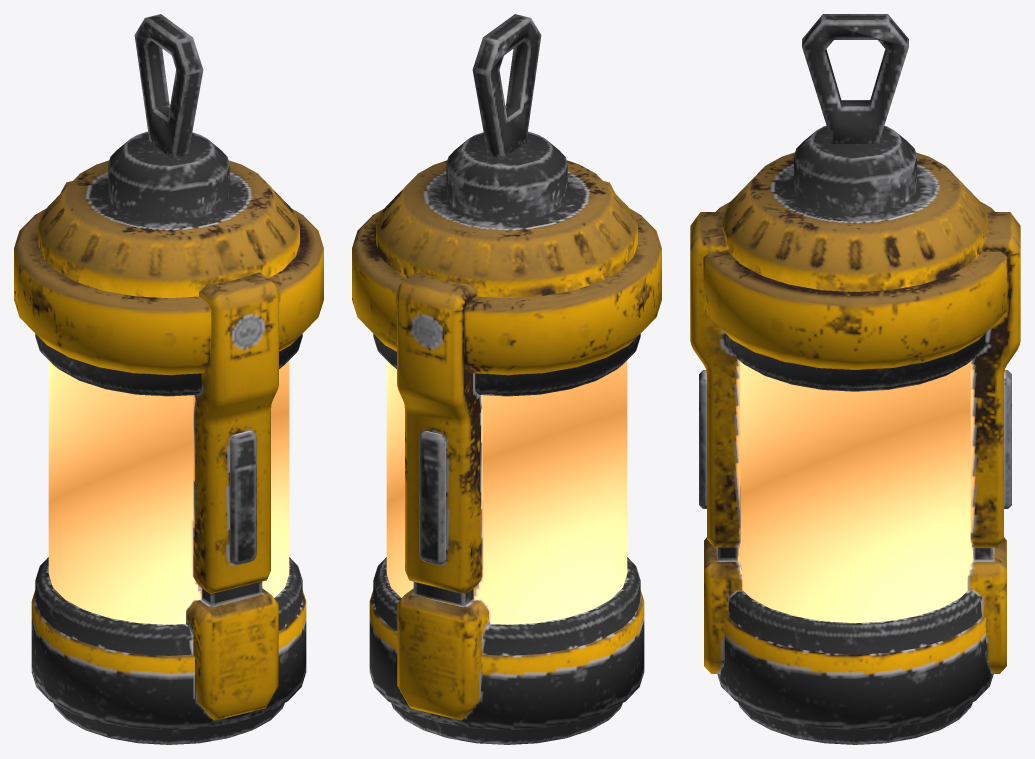
Rendered from LampA.fbx.
3 renders of one model, left to right at view 1: azimuth 30°, elevation 25°; view 2: azimuth 150°, elevation 25°; view 3: azimuth 270°, elevation 25°, orthographic.
Visible parts, largest first — view 1: Plane.004; view 2: Plane.004; view 3: Plane.004.
Part boxes in pixels (x1,y1,x2,y2): Plane.004: [14, 14, 323, 744]; Plane.004: [352, 14, 661, 744]; Plane.004: [690, 14, 1020, 744].
Size of the model in its own units: 182 by 192 by 434.
